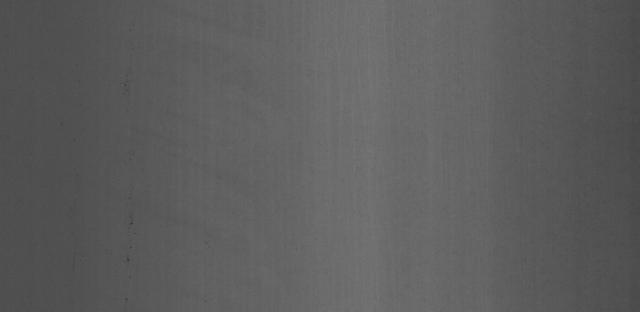inclusion: (122, 204, 137, 267)
